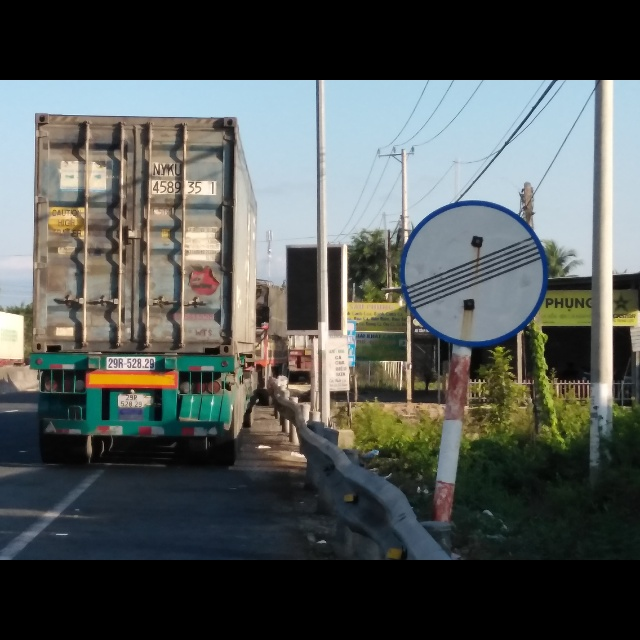Hết tất cả các lệnh cấm: (394, 200, 553, 352)
